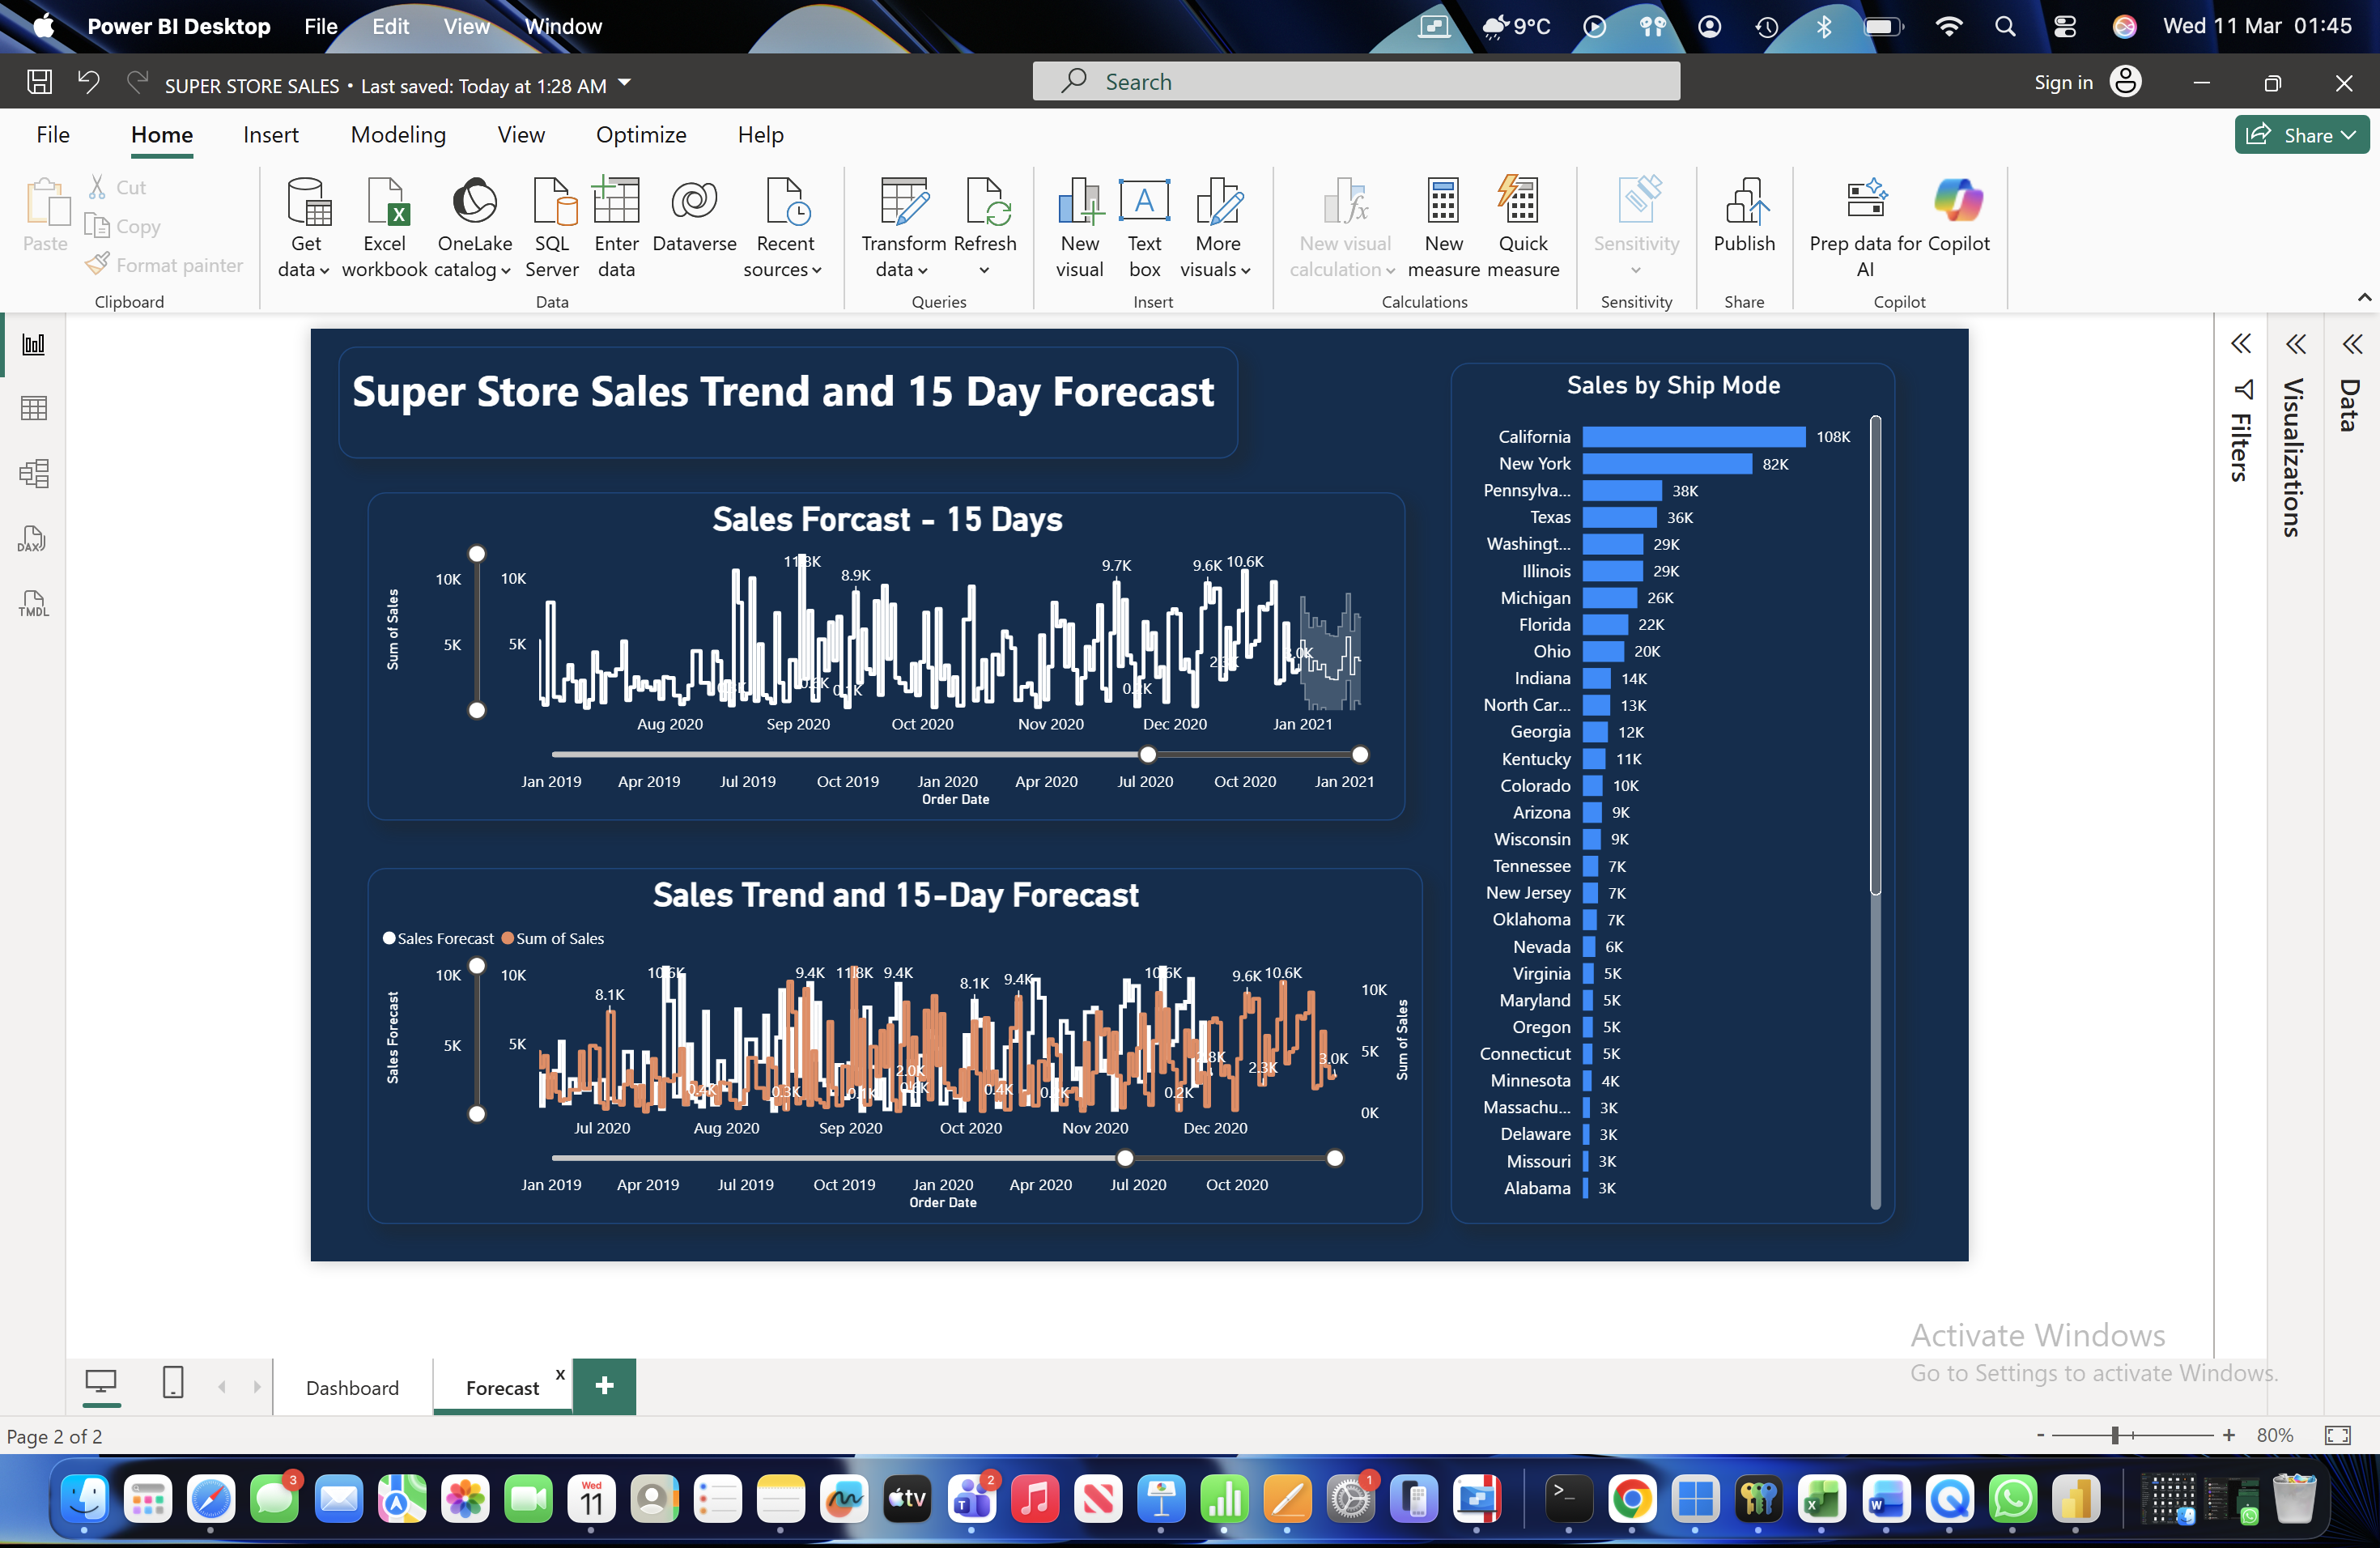

The page's visual inventory and layout, read from the dashboard file:
{"tool":"powerbi","page":{"name":"Forecast","canvas":[1280,720],"ordinal":1},"visuals":[{"type":"lineChart","title":"Sales Forcast - 15 Days","fields":{"Y":["Sum(SuperStore Sales DataSet.Sales)"],"Category":["SuperStore Sales DataSet.Order Date"]},"box":[43.3,126.7,801.7,253.3],"z":1},{"type":"lineChart","title":"Sales Trend and 15-Day Forecast","fields":{"Category":["SuperStore Sales DataSet.Order Date"],"Y":["Sales Forecast Table.Sales Forecast"],"Y2":["Sum(SuperStore Sales DataSet.Sales)"]},"box":[43.3,416.7,815,275],"z":2},{"type":"clusteredBarChart","title":"Sales by Ship Mode","fields":{"Y":["Sum(SuperStore Sales DataSet.Sales)"],"Category":["SuperStore Sales DataSet.State"]},"box":[880,26.7,343.3,665],"z":3},{"type":"textbox","box":[21.7,13.3,695,86.7],"z":4}]}

Visuals, with their boxes on the page's 1280x720 design canvas (x1, y1, x2, y2). These are canvas units, not pixel positions in the 2380x1548 screenshot, which may show the page scaled, cropped or inside an application window:
"Sales Forcast - 15 Days" lineChart: [left=43, top=127, right=845, bottom=380]
"Sales Trend and 15-Day Forecast" lineChart: [left=43, top=417, right=858, bottom=692]
"Sales by Ship Mode" clusteredBarChart: [left=880, top=27, right=1223, bottom=692]
textbox: [left=22, top=13, right=717, bottom=100]
